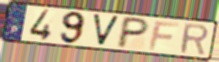4: (28, 8, 53, 42)
9: (58, 11, 88, 45)
F: (147, 20, 181, 51)
P: (114, 15, 152, 49)
R: (179, 22, 209, 56)
V: (91, 12, 122, 48)
